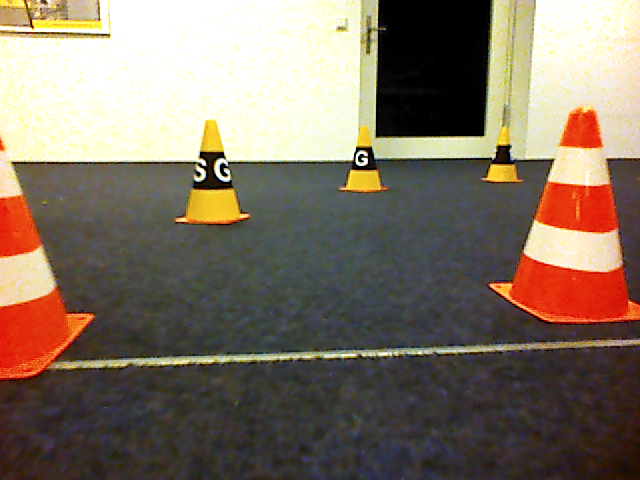orangeconesmall: (483, 106, 640, 329), (1, 117, 94, 380)
yellowcone: (175, 119, 251, 225), (338, 127, 390, 193), (478, 126, 524, 183)
